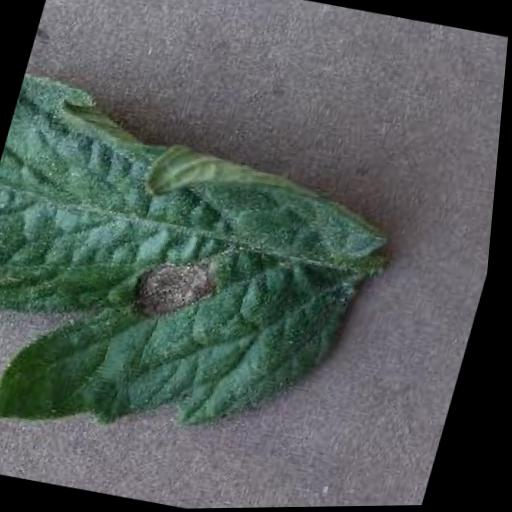Early Blight: (0, 66, 422, 483)
